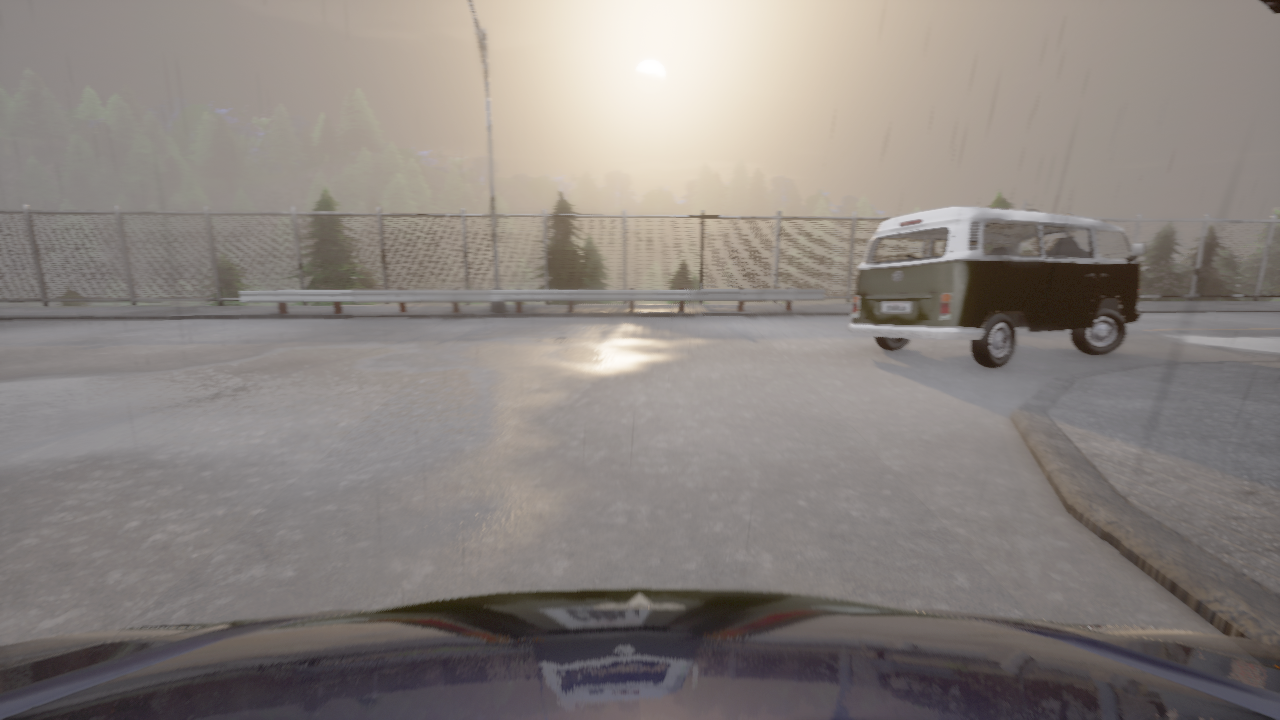cyclist: (0, 588, 1279, 719), (848, 205, 1146, 368)
